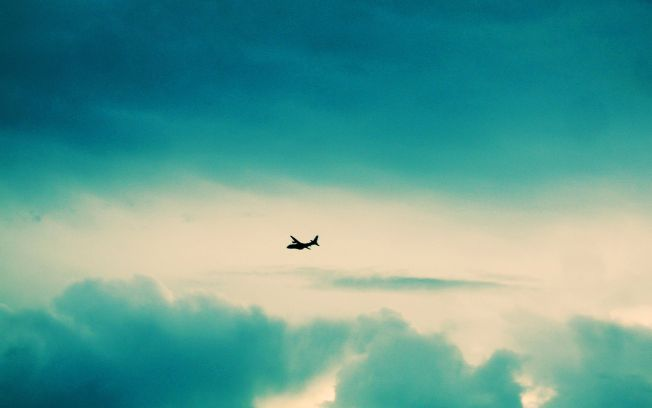plane: (283, 233, 319, 251)
